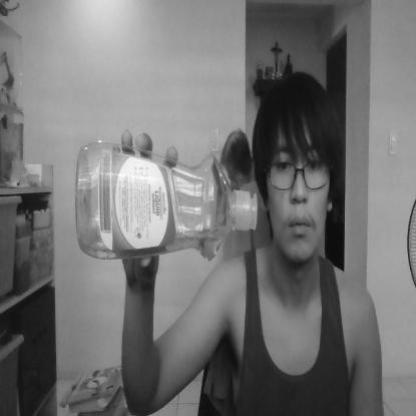Plastic Bottle: (72, 125, 262, 274)
